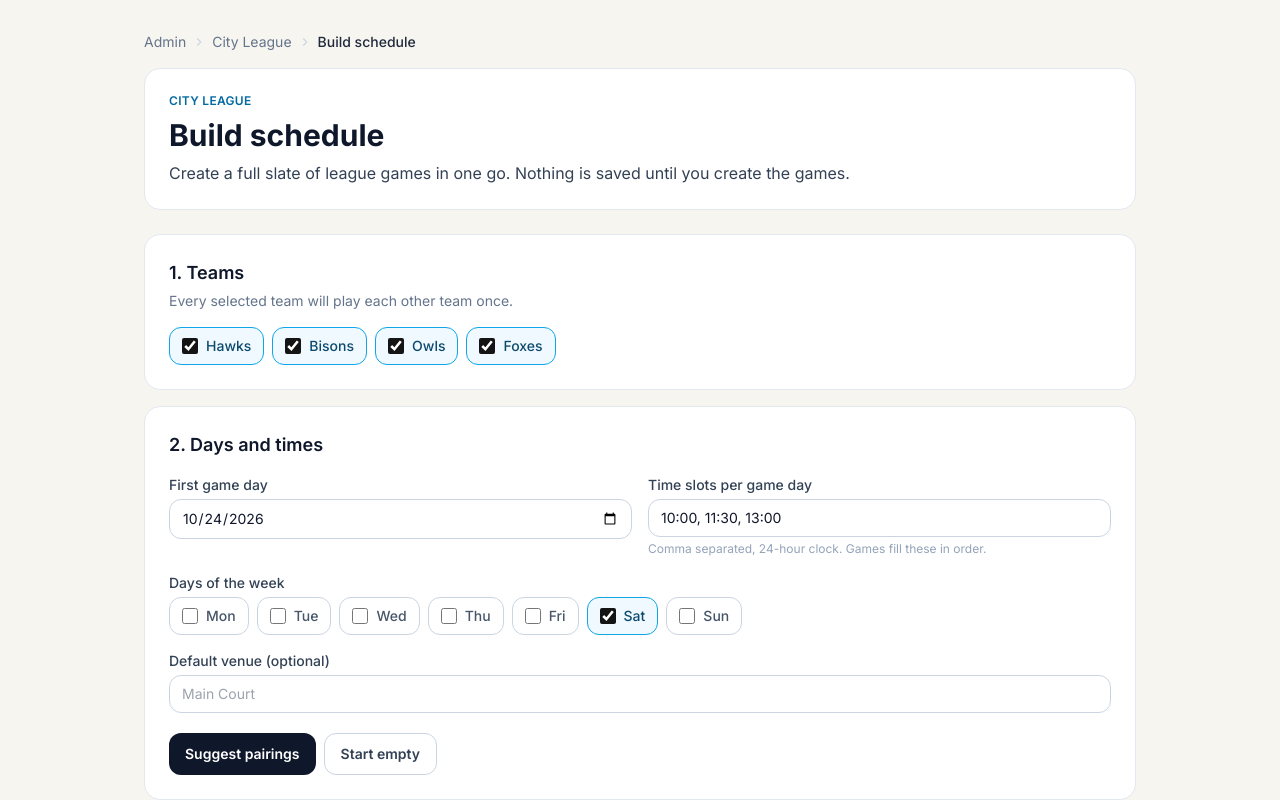
AdminLeagueSchedulePage › removes a row from the draft
Click the button "Suggest pairings" at (242, 754), box [169,733,316,775]
(page scrolled)
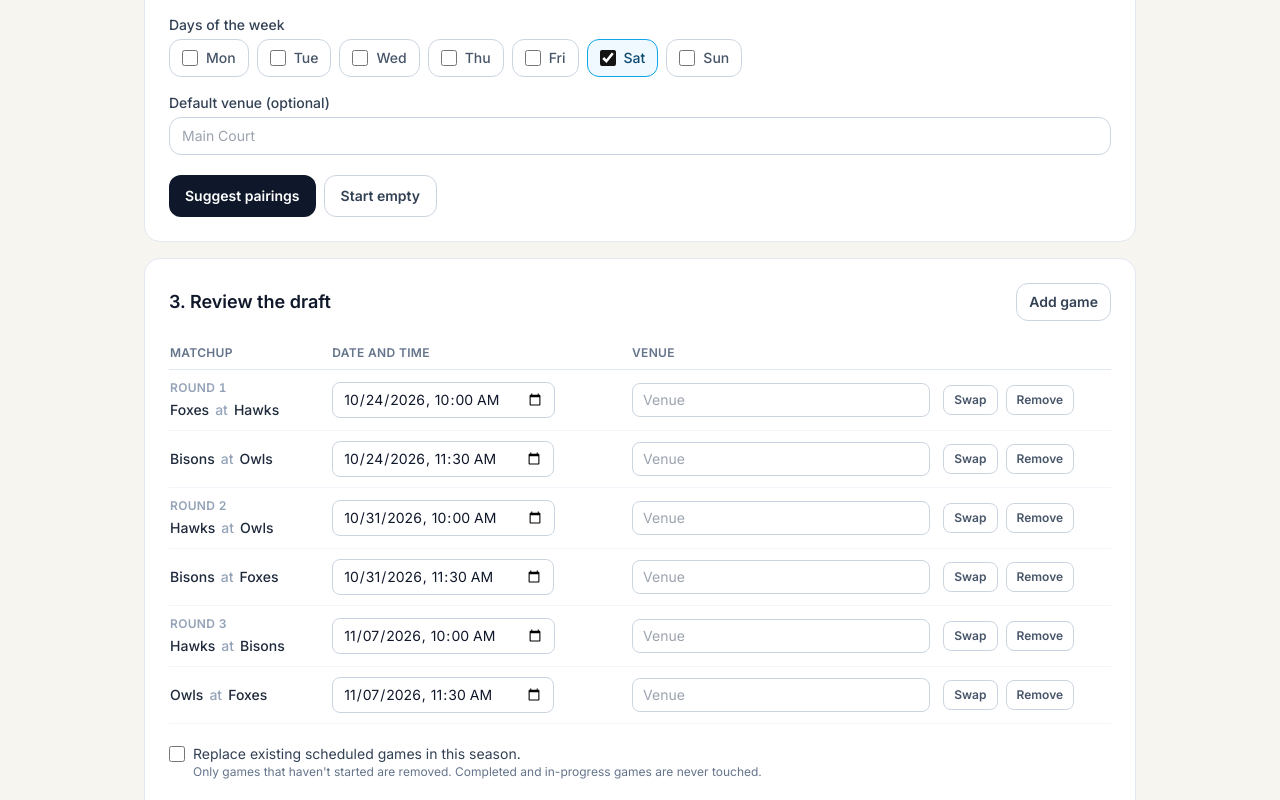
Click the button with aria-label "remove game" at (1040, 400), box [1006,385,1074,415]
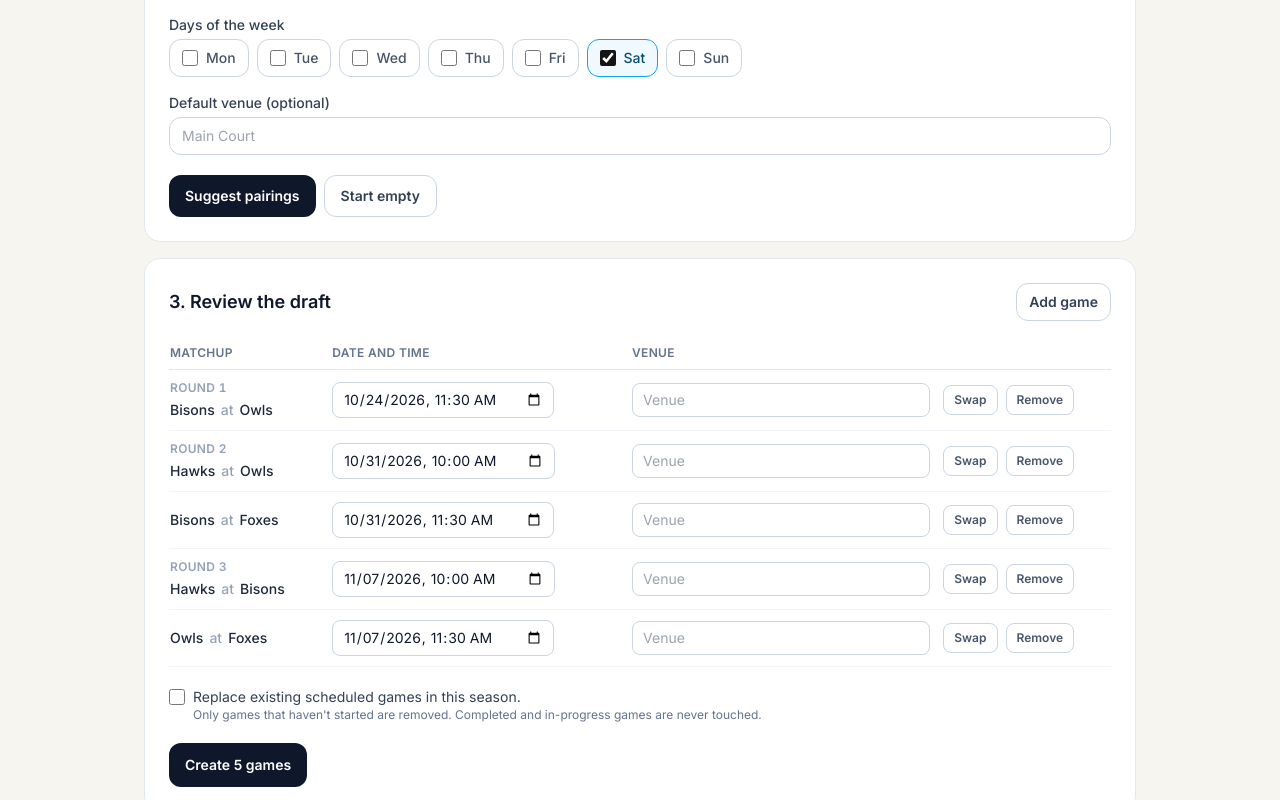
Check: the button "Create 5 games" is shown, box [169,743,307,787]
